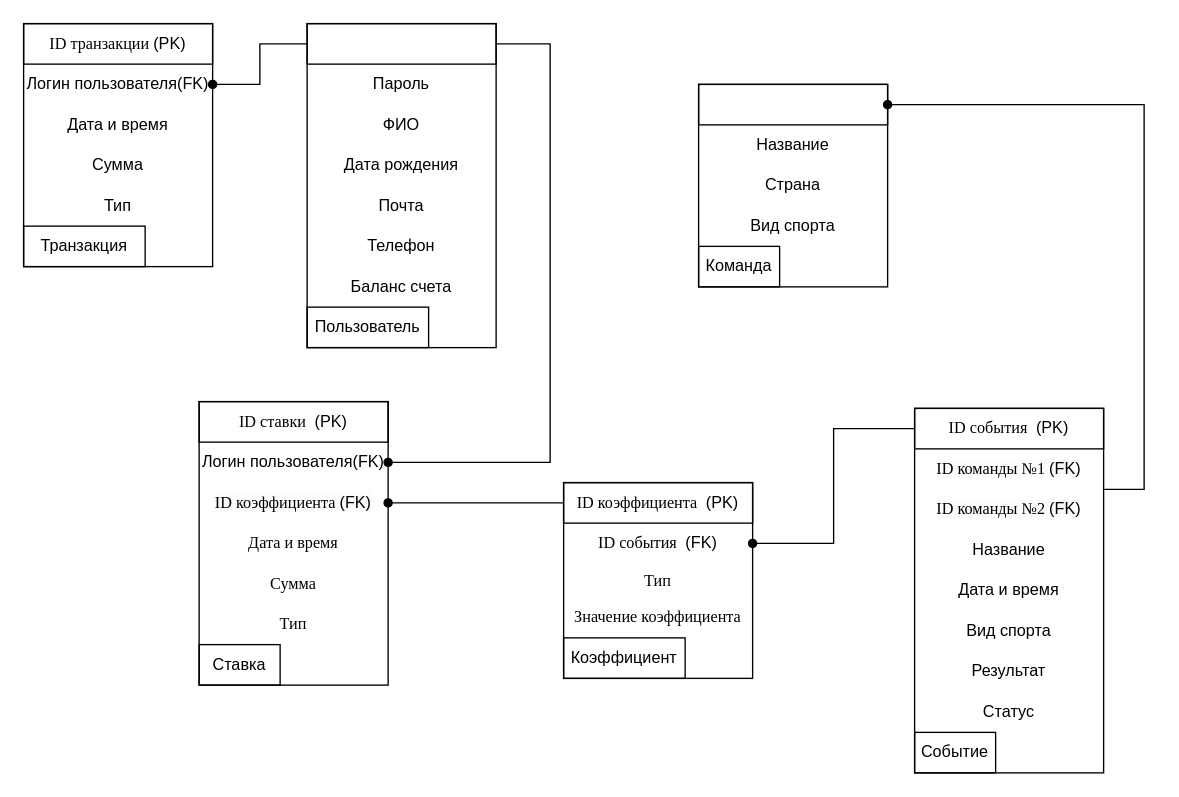
Some shapes in this 1179 by 797 pixel diagram are drawn without their labels. The centre of each missing label's shape, as x and y in pixels:
"ID команды (PK)" belongs at point (792, 104).
"Логин (PK)" belongs at point (401, 43).
